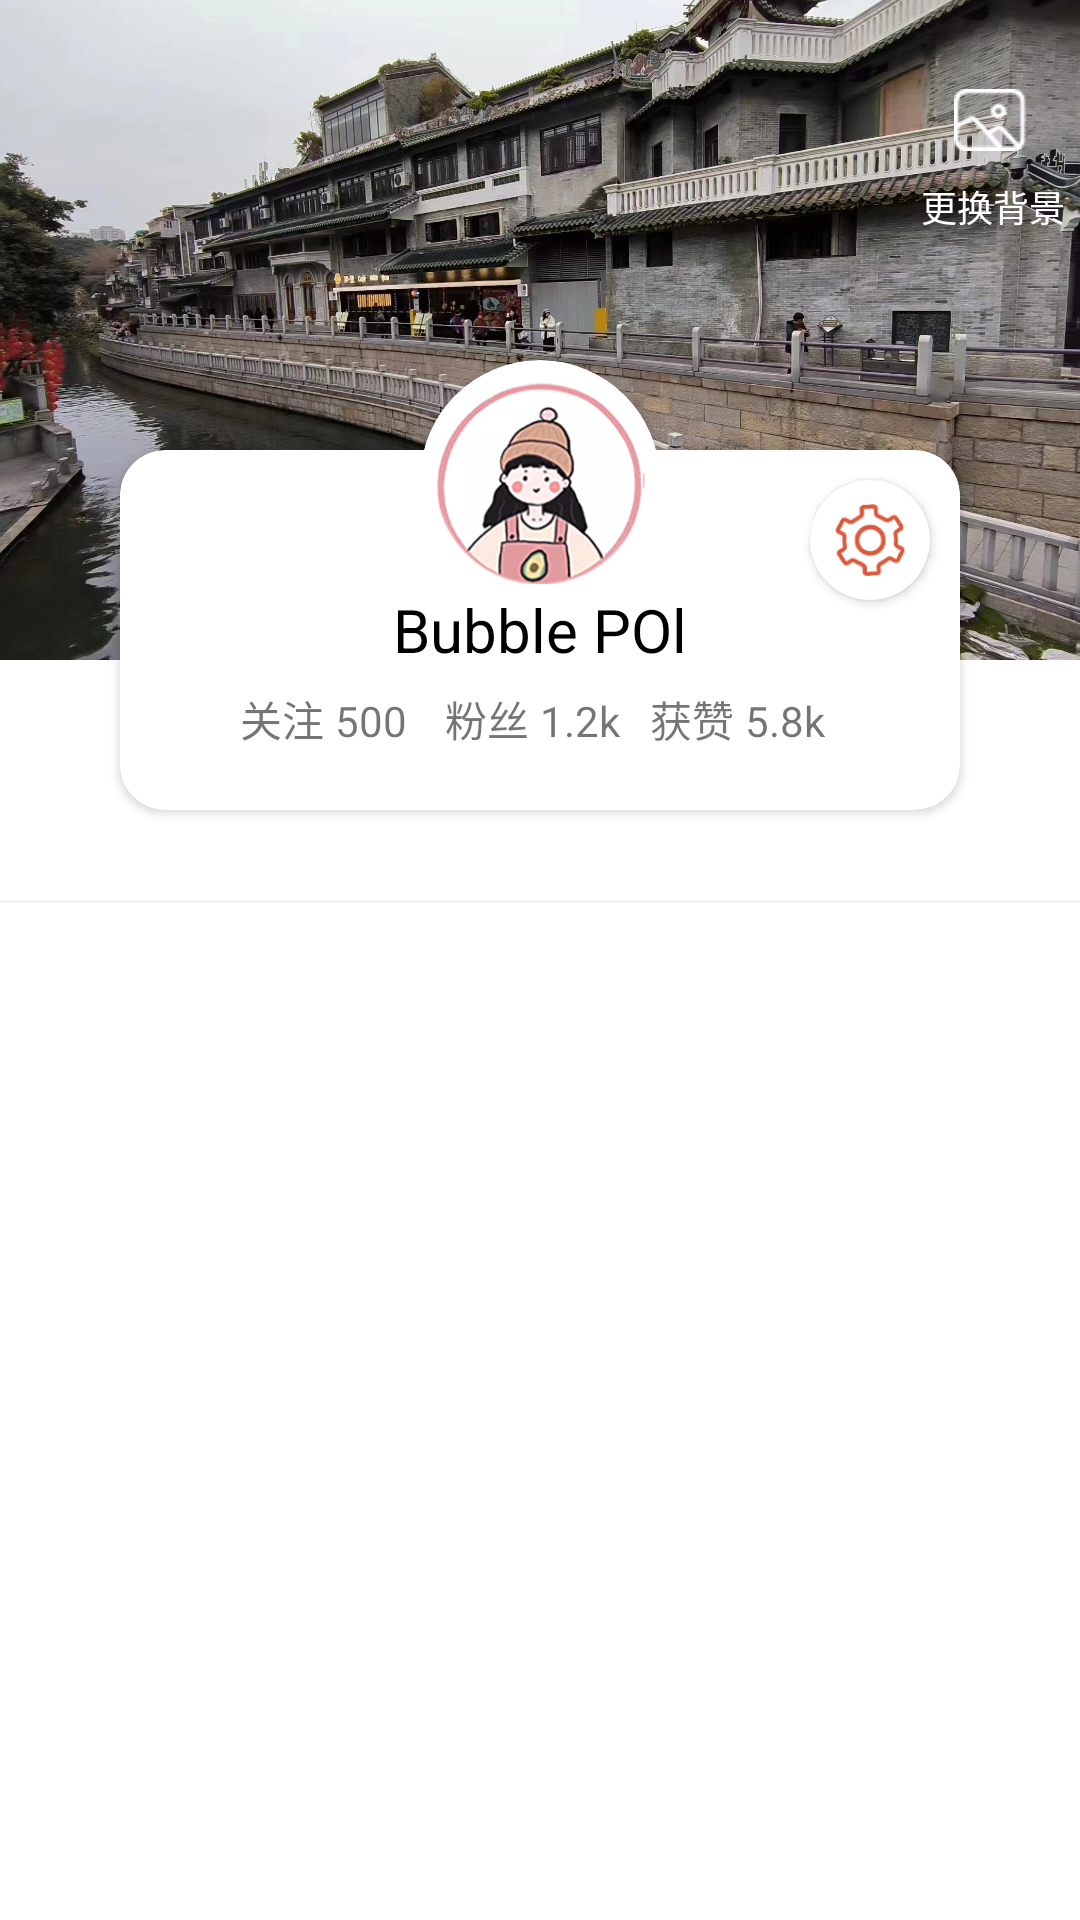

Screen size 1080w x 1920h. Icon name, then its box in pixels as region(x1, y1, x2, y2):
head: region(437, 383, 645, 584)
settings: region(835, 504, 905, 576)
